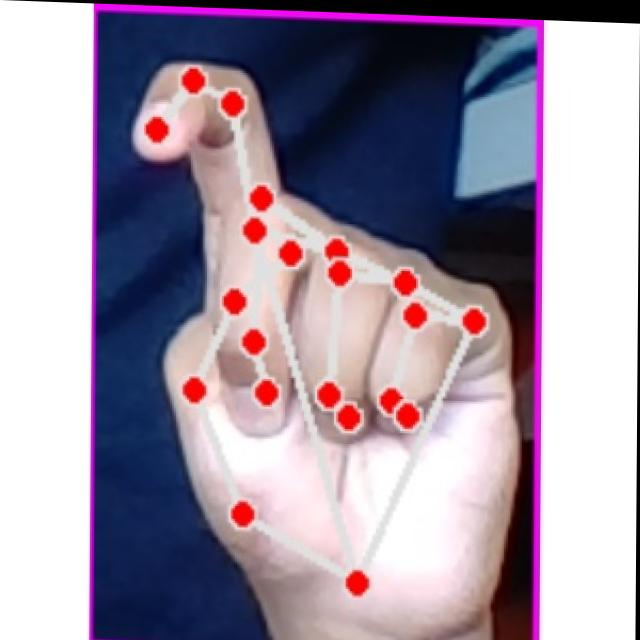Z: (123, 49, 519, 629)
